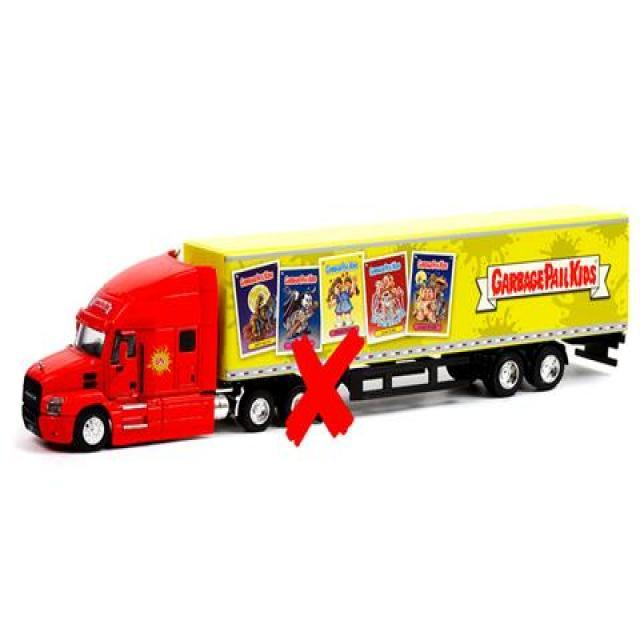traffic light: (20, 203, 630, 453)
